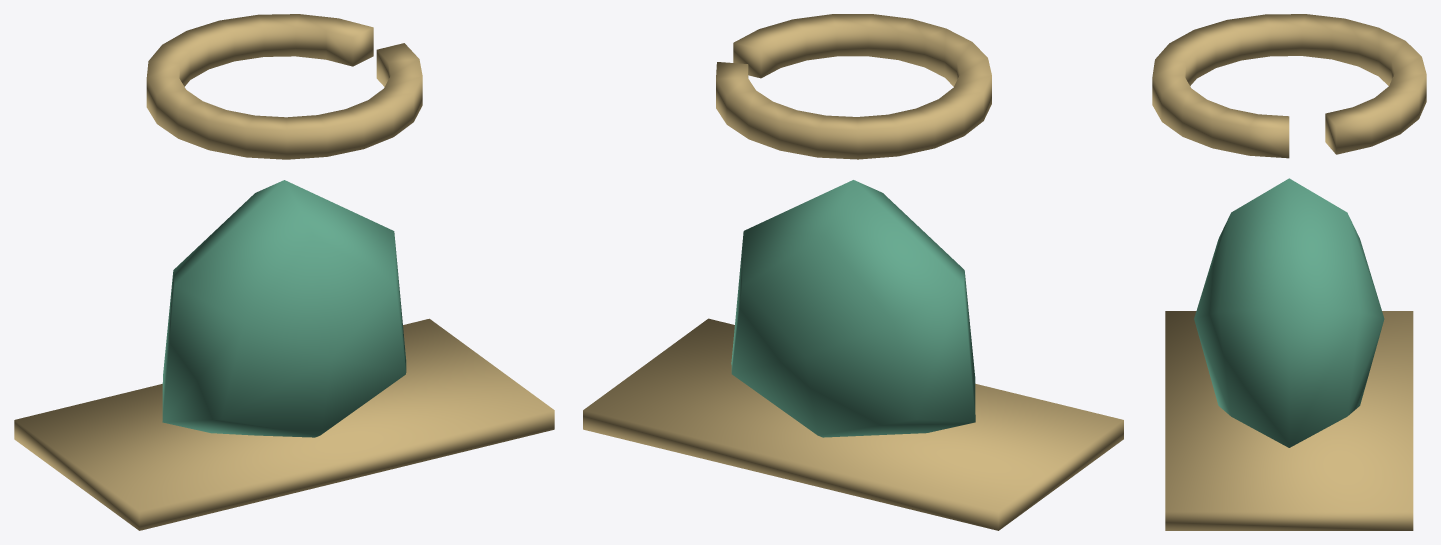
The model's file is Muska.glb.
3 renders of one model, left to right at view 1: azimuth 30°, elevation 25°; view 2: azimuth 150°, elevation 25°; view 3: azimuth 270°, elevation 25°, orthographic.
Parts seen in each view (by area): view 1: Muska; view 2: Muska; view 3: Muska.
Boxes of the visible parts, x1=… form: Muska: x1=14, y1=14, x2=554, y2=530; Muska: x1=583, y1=14, x2=1123, y2=530; Muska: x1=1152, y1=14, x2=1426, y2=530.
Size of the model in its own units: 0.09 by 0.0781 by 0.0519.
